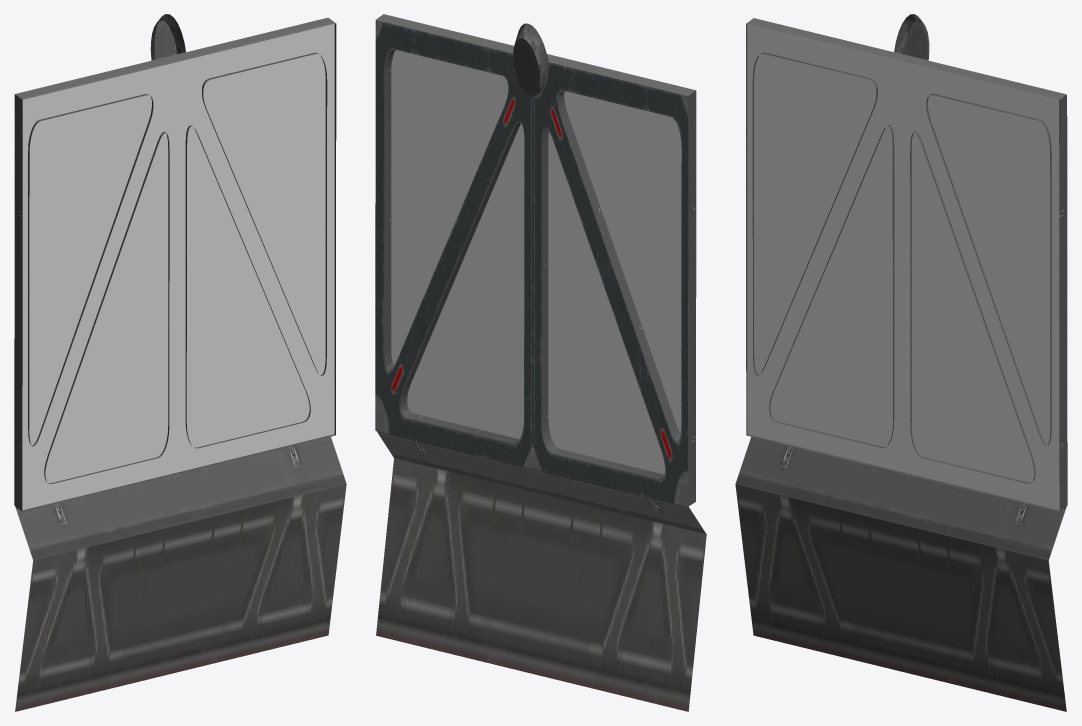
The model's file is fut-parede-janela.gltf.
The picture shows the model from 3 angles, left to right: view 1: azimuth 30°, elevation 25°; view 2: azimuth 150°, elevation 25°; view 3: azimuth 330°, elevation 25°; orthographic projection.
Parts seen in each view (by area): view 1: WallWindow_Straight; view 2: WallWindow_Straight; view 3: WallWindow_Straight.
Part boxes in pixels (x1=…): WallWindow_Straight: x1=14, y1=14, x2=346, y2=711; WallWindow_Straight: x1=375, y1=14, x2=706, y2=711; WallWindow_Straight: x1=735, y1=14, x2=1067, y2=711.
Bounding box in the file's own units: 1 × 2 × 0.1599.
Materials: 4 (3 with a texture image).
